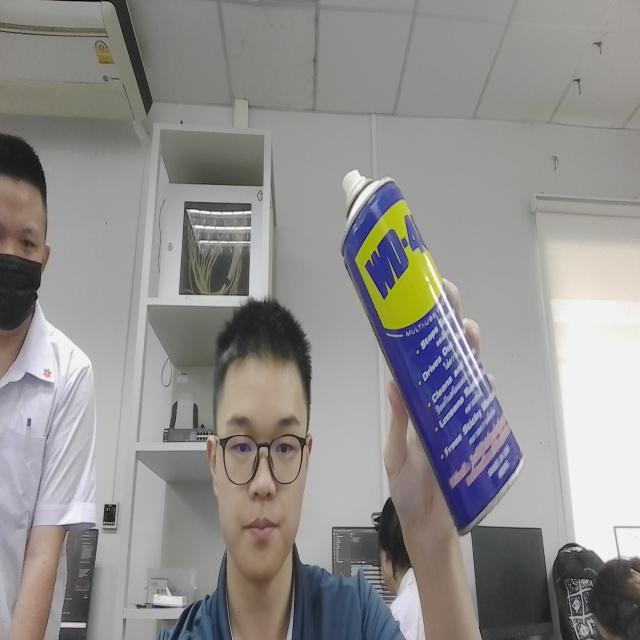wd-40: (328, 140, 533, 557)
